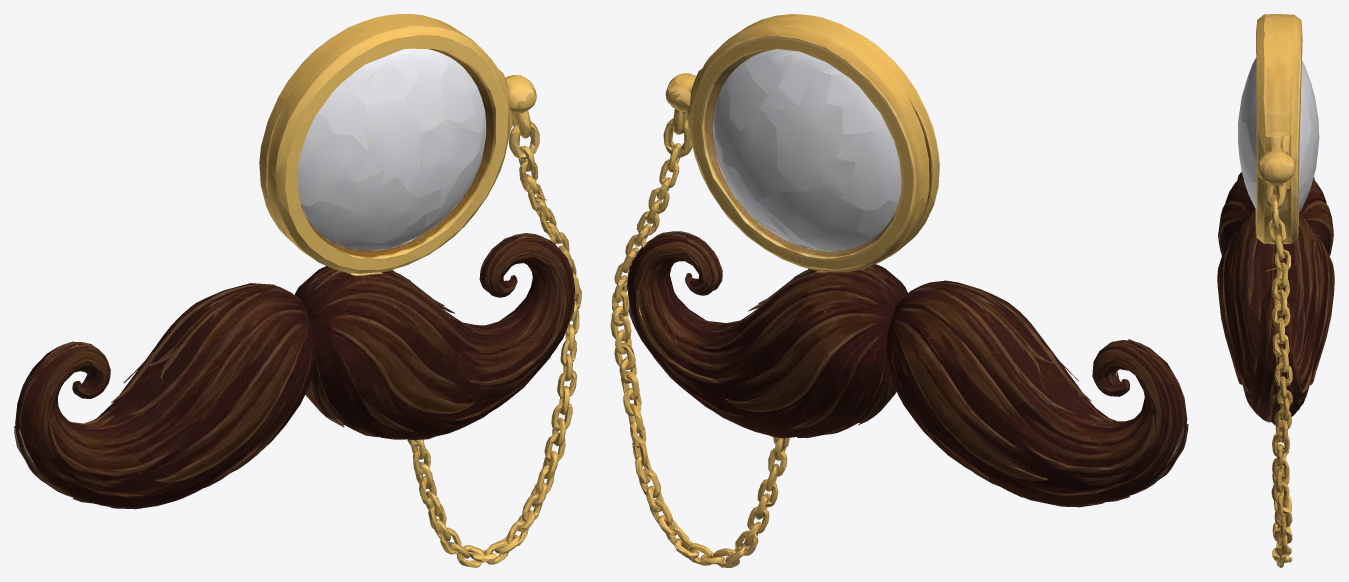
The model's file is monocle_stache.glb.
3 views of the same model, side by side, from view 1: azimuth 30°, elevation 25°; view 2: azimuth 150°, elevation 25°; view 3: azimuth 270°, elevation 25° (orthographic). The views are drawn at different scales.
Parts seen in each view (by area): view 1: Mesh_0; view 2: Mesh_0; view 3: Mesh_0.
Part boxes in pixels (x1=…): Mesh_0: x1=14, y1=14, x2=581, y2=567; Mesh_0: x1=610, y1=14, x2=1188, y2=567; Mesh_0: x1=1217, y1=14, x2=1334, y2=567.
Bounding box in the file's own units: 1 × 0.9523 × 0.2052.
1 material, 1 textured.
